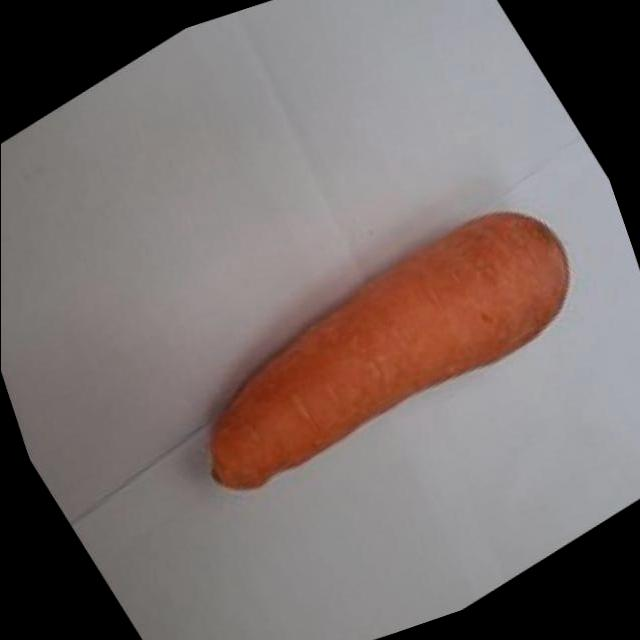carrot: (107, 145, 640, 550)
